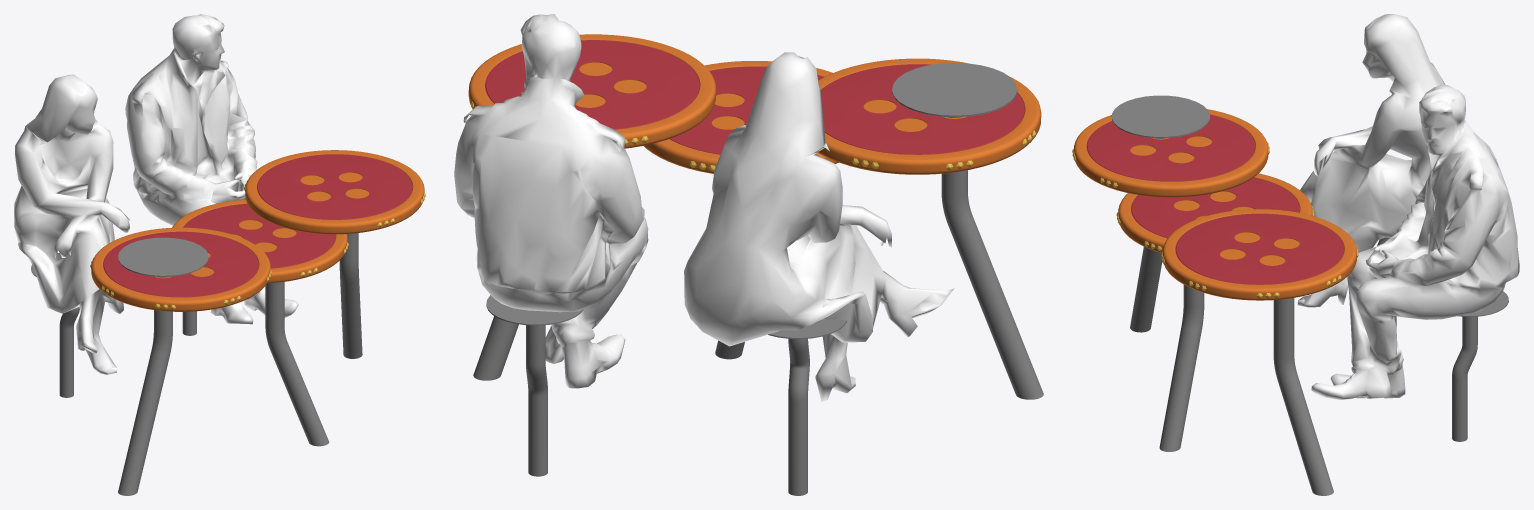
The picture shows the model from 3 angles, left to right: view 1: azimuth 30°, elevation 25°; view 2: azimuth 150°, elevation 25°; view 3: azimuth 270°, elevation 25°; orthographic projection. The views are drawn at different scales.
Visible parts, largest first — view 1: male sit001, seated_girl005, button_table008, button_table005, Line011, button_table007, Line009, Line010, Line007; view 2: male sit001, seated_girl005, button_table005, button_table008, Line011, button_table007, Line007, Line008, Line010, Circle010, Circle009; view 3: male sit001, seated_girl005, button_table008, button_table005, button_table007, Line011, Line010, Line009, Line008.
Boxes of the visible parts, x1=… form: male sit001: x1=125, y1=14, x2=298, y2=324; seated_girl005: x1=14, y1=74, x2=129, y2=374; button_table008: x1=245, y1=150, x2=424, y2=234; button_table005: x1=91, y1=227, x2=270, y2=311; Line011: x1=118, y1=237, x2=208, y2=495; button_table007: x1=172, y1=199, x2=347, y2=283; Line009: x1=265, y1=282, x2=329, y2=446; Line010: x1=339, y1=233, x2=362, y2=358; Line007: x1=59, y1=307, x2=79, y2=397; male sit001: x1=454, y1=14, x2=648, y2=388; seated_girl005: x1=684, y1=52, x2=954, y2=401; button_table005: x1=818, y1=58, x2=1041, y2=174; button_table008: x1=468, y1=34, x2=716, y2=148; Line011: x1=892, y1=62, x2=1043, y2=399; button_table007: x1=644, y1=61, x2=838, y2=173; Line007: x1=788, y1=338, x2=809, y2=495; Line008: x1=526, y1=325, x2=547, y2=476; Line010: x1=473, y1=316, x2=518, y2=380; Circle010: x1=486, y1=295, x2=583, y2=325; Circle009: x1=768, y1=319, x2=846, y2=339; male sit001: x1=1311, y1=84, x2=1519, y2=400; seated_girl005: x1=1297, y1=14, x2=1445, y2=307; button_table008: x1=1162, y1=209, x2=1356, y2=300; button_table005: x1=1074, y1=109, x2=1268, y2=197; button_table007: x1=1118, y1=173, x2=1312, y2=252; Line011: x1=1111, y1=95, x2=1209, y2=332; Line010: x1=1273, y1=298, x2=1333, y2=495; Line009: x1=1159, y1=285, x2=1204, y2=451; Line008: x1=1452, y1=316, x2=1477, y2=441.
Bounding box in the file's own units: 1.7 × 1.54 × 1.72.
